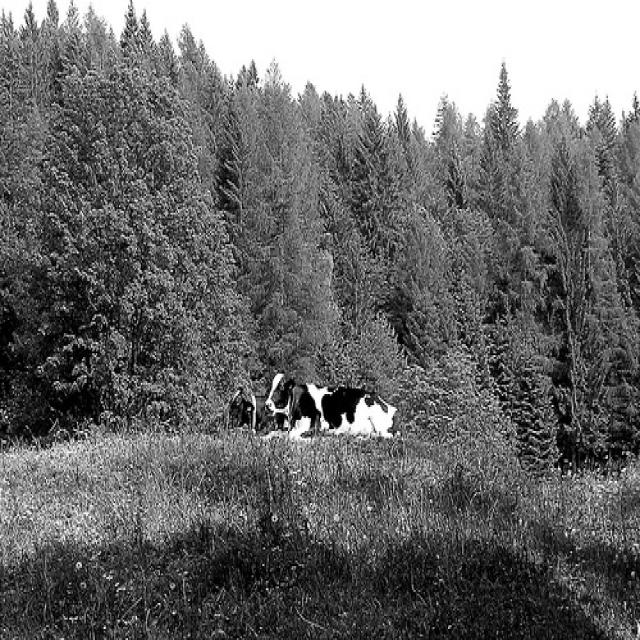cow: (261, 363, 403, 442)
